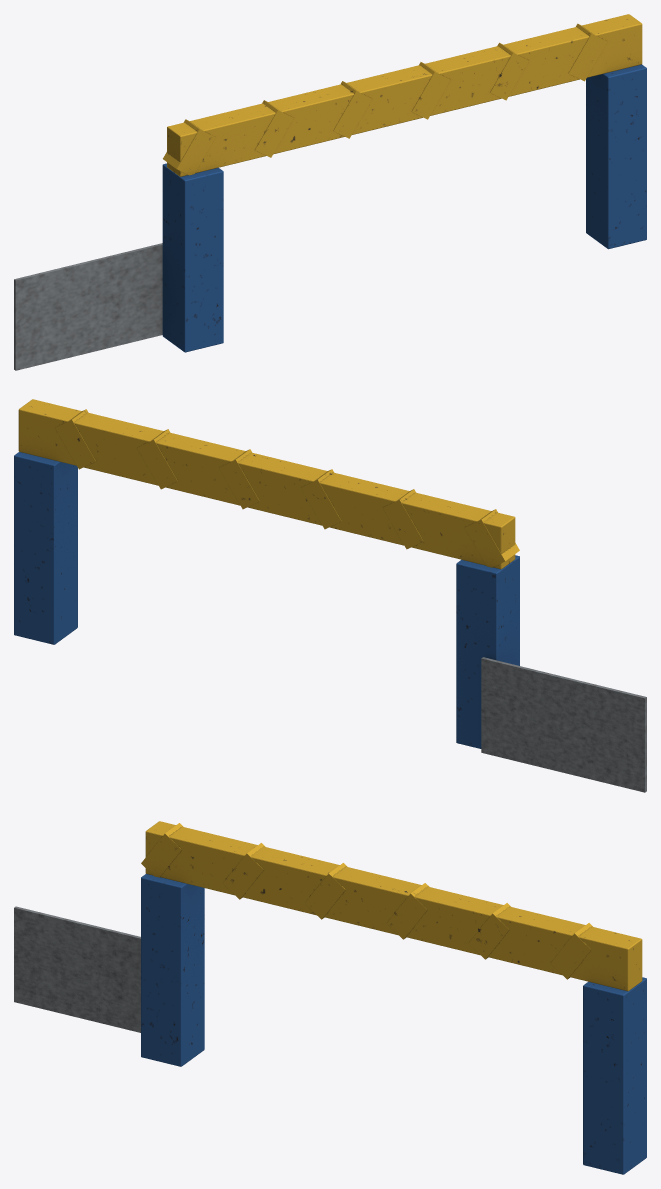
File: city_site_gate.glb
3 renders of one model, top to bottom at view 1: azimuth 30°, elevation 25°; view 2: azimuth 150°, elevation 25°; view 3: azimuth 330°, elevation 25°, orthographic. The views are drawn at different scales.
Parts seen in each view (by area): view 1: city_site_gate; view 2: city_site_gate; view 3: city_site_gate.
Part boxes in pixels (x1,y1,x2,y2): city_site_gate: [14, 14, 646, 370]; city_site_gate: [14, 399, 646, 792]; city_site_gate: [14, 821, 646, 1174].
Bounding box in the file's own units: 15.5 × 5.26 × 1.14.
Materials: 4 (4 with a texture image).
